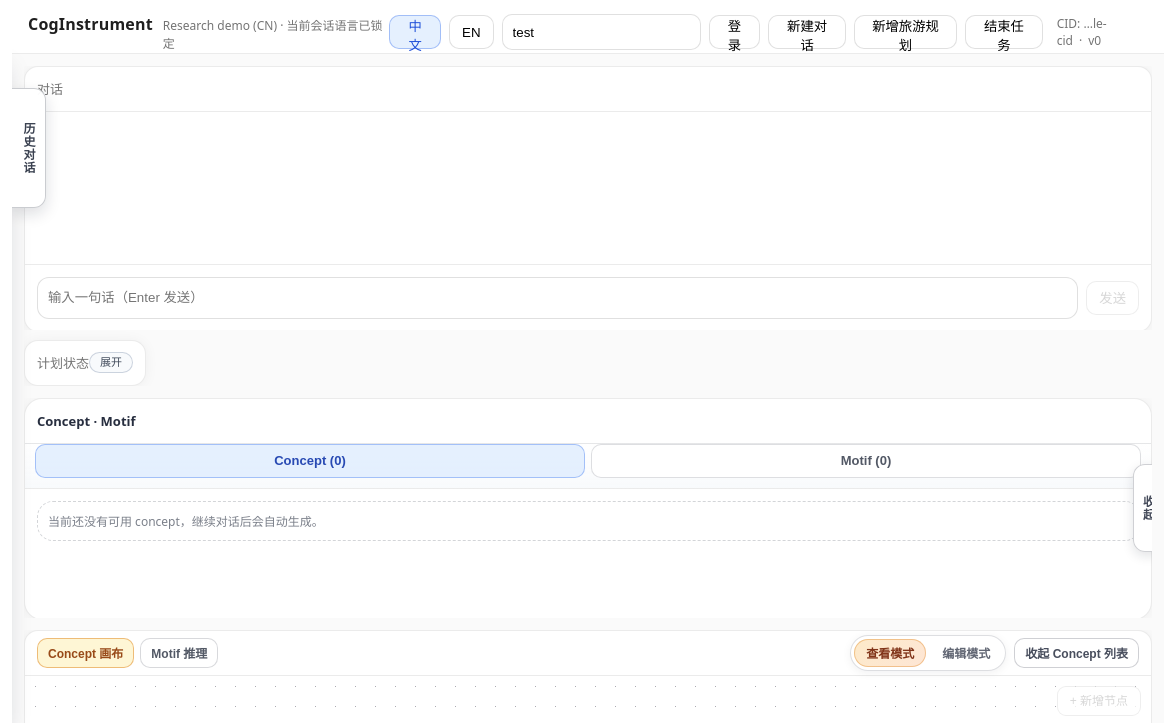
Test: login should clear stale saved conversation when switching to a different user
Replace the text in the field with placeholder "用户名（无密码）" with "new-user" at (601,32), box 502,14 -> 700,50
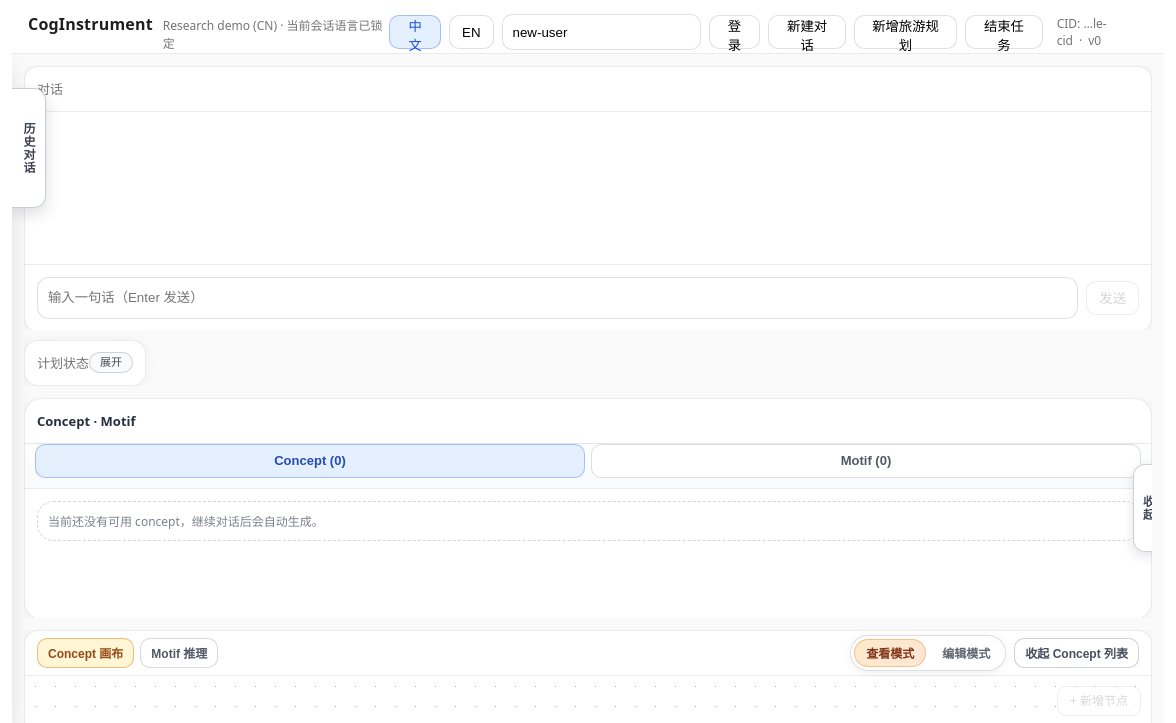
Click the button "登录" at (734,32), box 708,15 -> 760,49
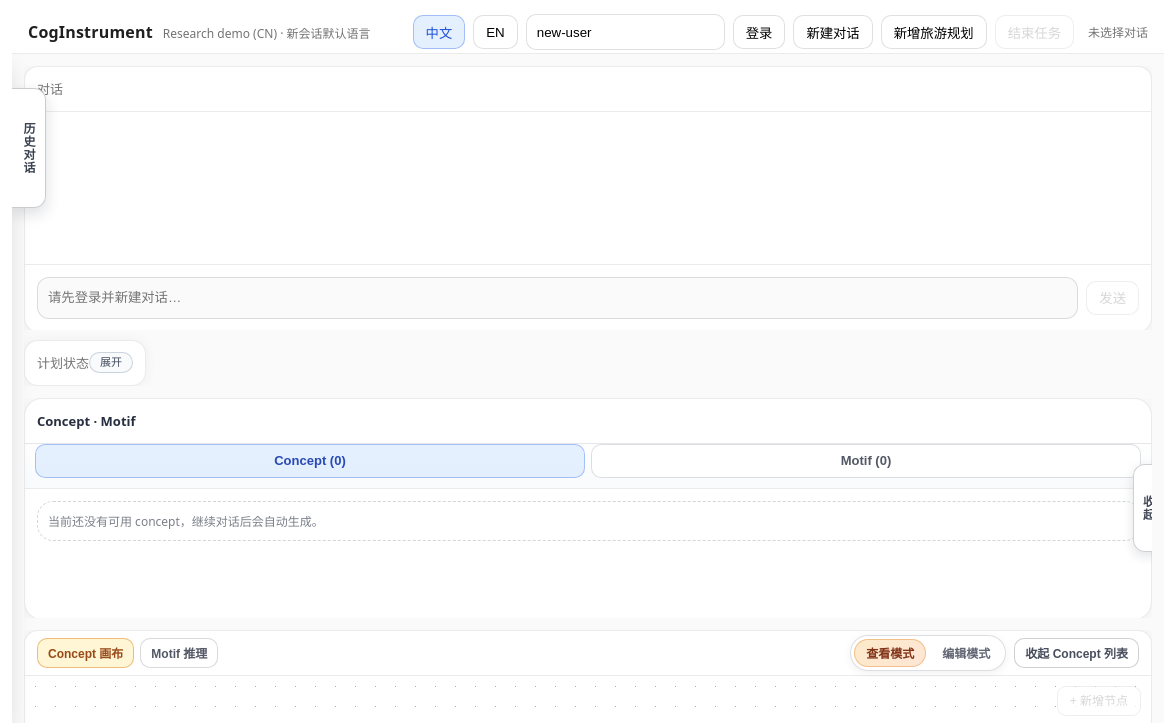
Expected: the field with placeholder "请先登录并新建对话…" is disabled, 37,276 -> 1078,318
